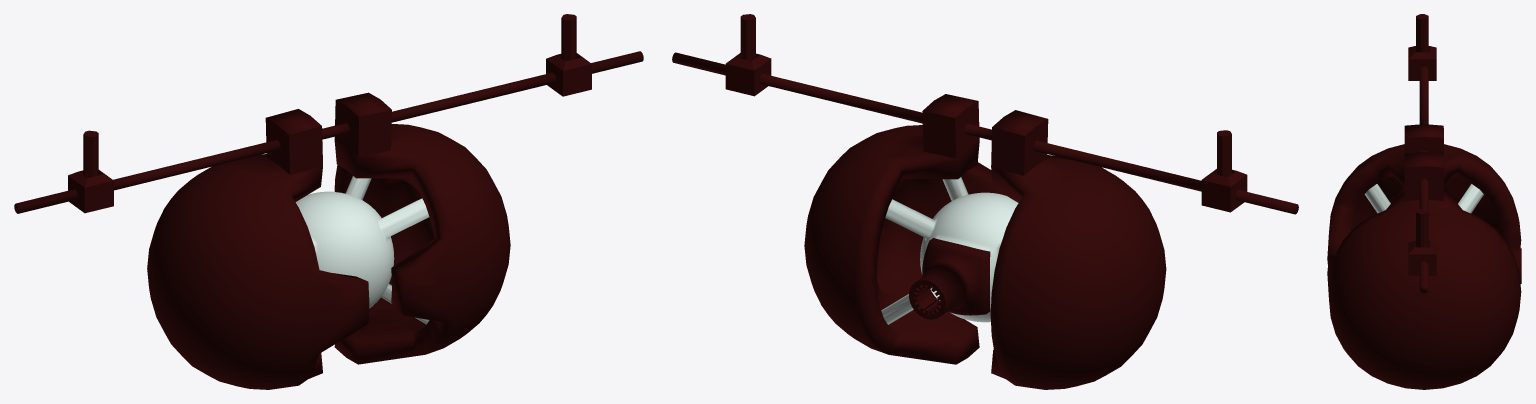
File: GlassCannonBody.fbx
The picture shows the model from 3 angles, left to right: view 1: azimuth 30°, elevation 25°; view 2: azimuth 150°, elevation 25°; view 3: azimuth 270°, elevation 25°; orthographic projection. The views are drawn at different scales.
Parts seen in each view (by area): view 1: glass_cannon; view 2: glass_cannon; view 3: glass_cannon.
Part boxes in pixels (x1,y1,x2,y2): glass_cannon: (14,14,643,389); glass_cannon: (672,14,1298,389); glass_cannon: (1327,14,1521,389).
Size of the model in its own units: 36975 by 16268 by 11943.
